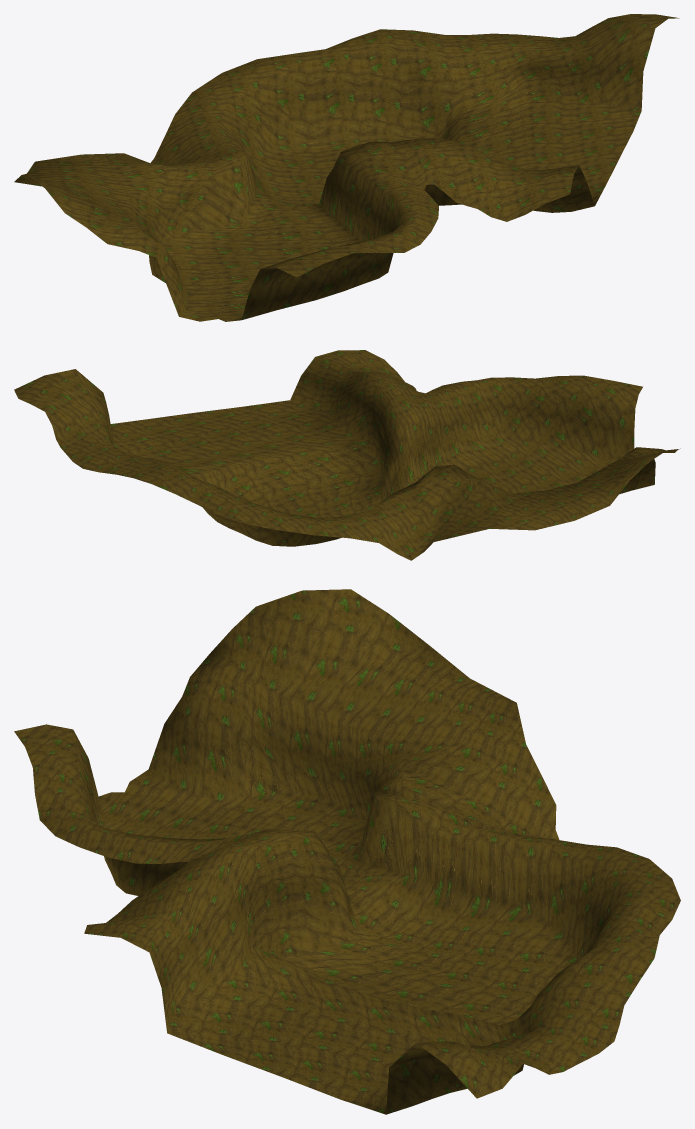
File: MIRKWOOD_AREA3.fbx
3 renders of one model, top to bottom at view 1: azimuth 30°, elevation 25°; view 2: azimuth 150°, elevation 25°; view 3: azimuth 270°, elevation 25°, orthographic. The views are drawn at different scales.
Visible parts, largest first — view 1: MIRKWOOD_AREA3; view 2: MIRKWOOD_AREA3; view 3: MIRKWOOD_AREA3.
Part boxes in pixels (left/top/right/bottom): MIRKWOOD_AREA3: left=14, top=14, right=679, bottom=321; MIRKWOOD_AREA3: left=14, top=350, right=680, bottom=560; MIRKWOOD_AREA3: left=14, top=589, right=680, bottom=1114.
Bounding box in the file's own units: 778563 × 131327 × 495563.
Materials: 1 (1 with a texture image).
